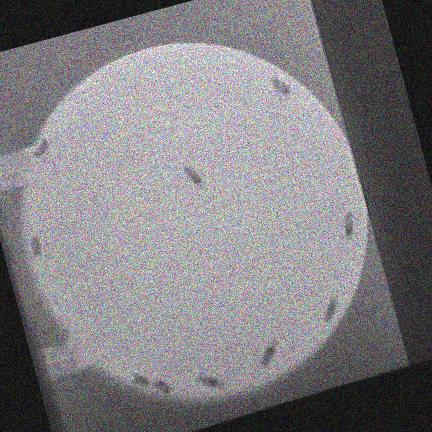fly: (184, 166, 205, 187), (261, 341, 278, 366), (325, 297, 339, 324), (199, 376, 225, 390), (273, 77, 291, 95), (36, 137, 49, 157), (154, 380, 172, 394), (345, 212, 354, 237), (32, 237, 42, 258), (135, 374, 150, 387)
